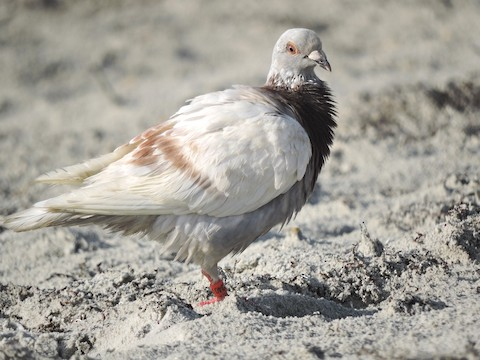pigeon: (2, 20, 338, 315)
